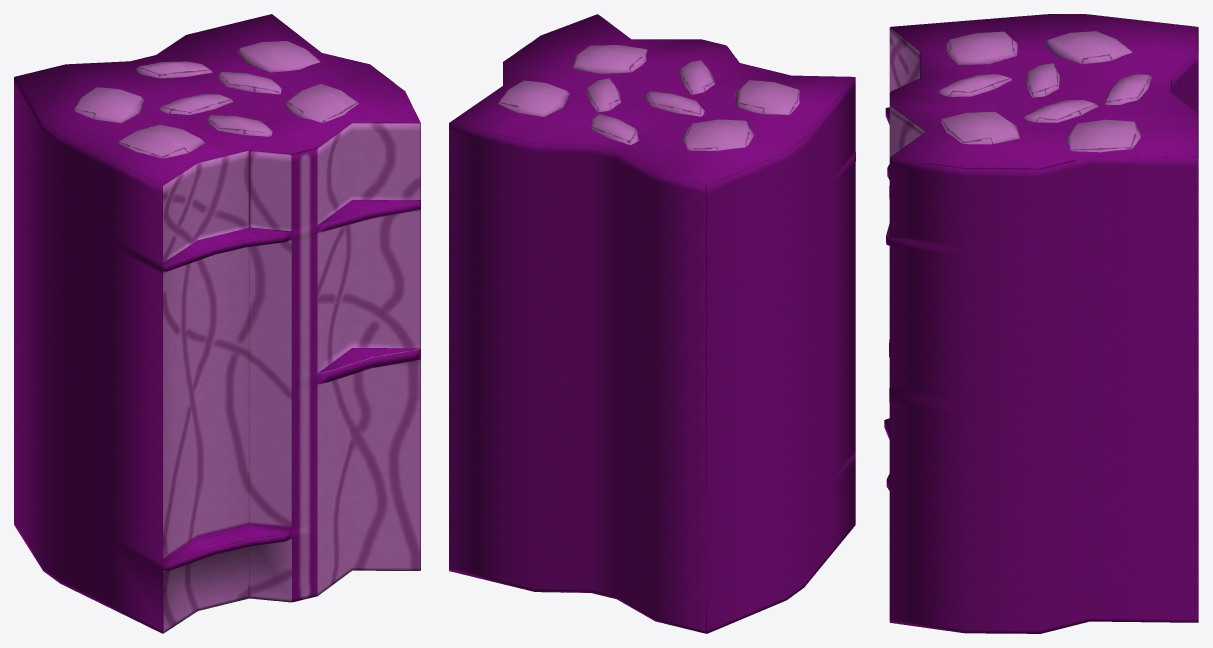
Rendered from selpengirimfloemaftercomb.fbx.
3 views of the same model, side by side, from view 1: azimuth 30°, elevation 25°; view 2: azimuth 150°, elevation 25°; view 3: azimuth 270°, elevation 25° (orthographic). The views are drawn at different scales.
Visible parts, largest first — view 1: Plane.001; view 2: Plane.001; view 3: Plane.001.
Boxes of the visible parts, bbox=[...] form: Plane.001: bbox=[14, 14, 420, 633]; Plane.001: bbox=[449, 14, 855, 633]; Plane.001: bbox=[884, 14, 1198, 633].
Size of the model in its own units: 237 by 337 by 203.
Materials: 1 (1 with a texture image).
